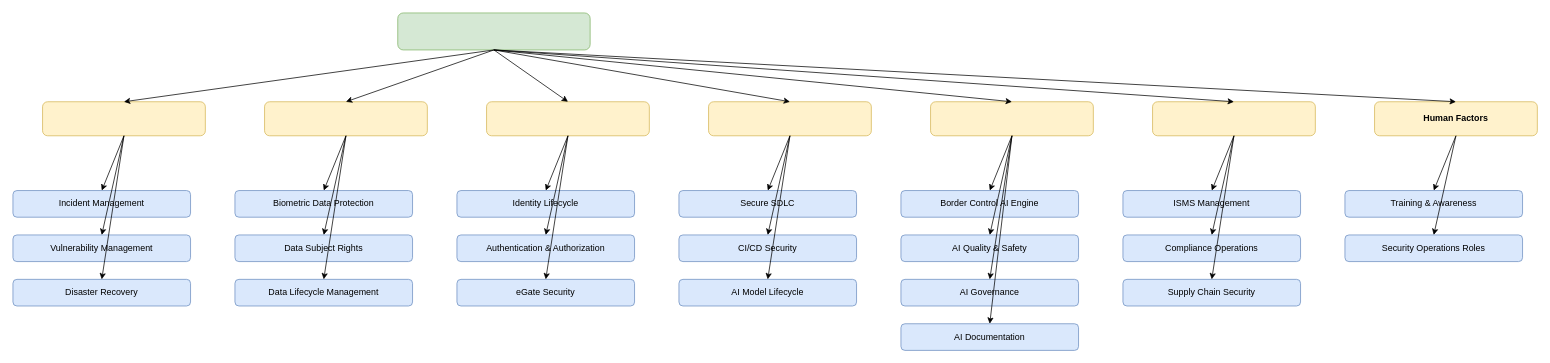
The diagram is 1550 pixels wide and 363 high, and some of its shapes have lost their labels. The shapes that lost their labels are listed below. From the top down, each one's centre as x and y in pixels, then its label:
At (x=493, y=31): "SecureBorder Solutions Compliance Architecture".
At (x=123, y=118): "Security Operations".
At (x=345, y=118): "Data Protection & Privacy".
At (x=567, y=118): "Identity & Access Management".
At (x=789, y=118): "Secure Development".
At (x=1011, y=118): "AI Systems".
At (x=1233, y=118): "Governance & Compliance".
